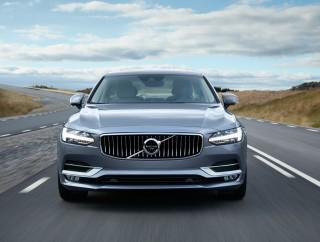volvo: (139, 134, 165, 161)
